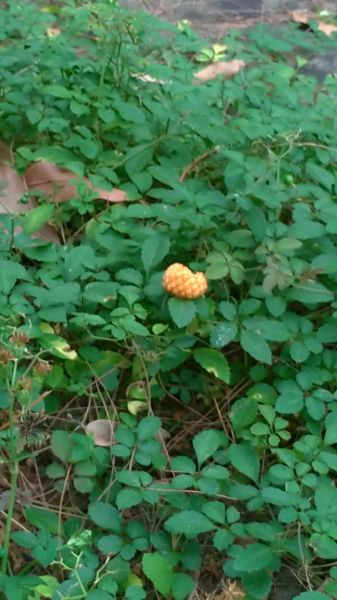eggs: (161, 261, 210, 302)
